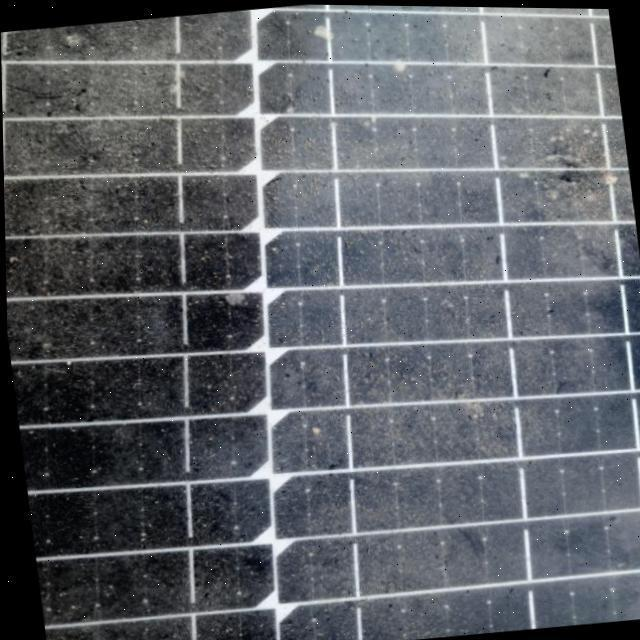Surface Contaminant: (1, 6, 640, 640)
